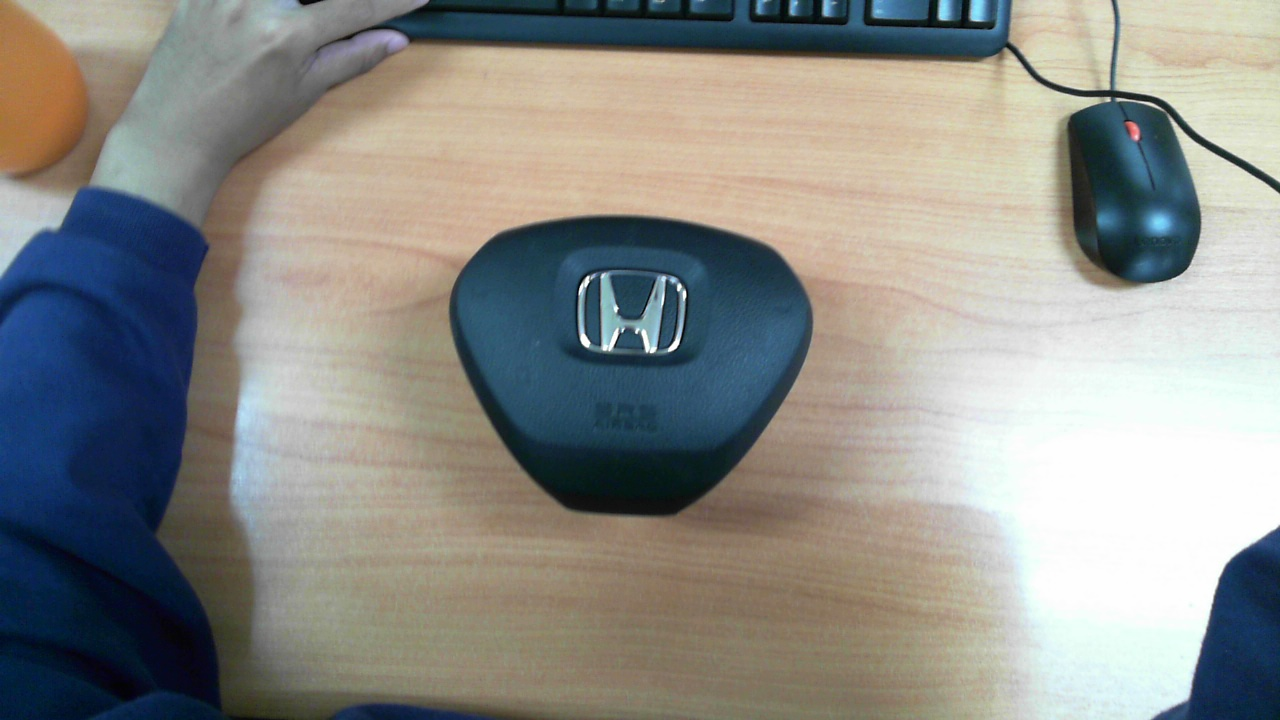Airbag: (449, 217, 812, 515)
